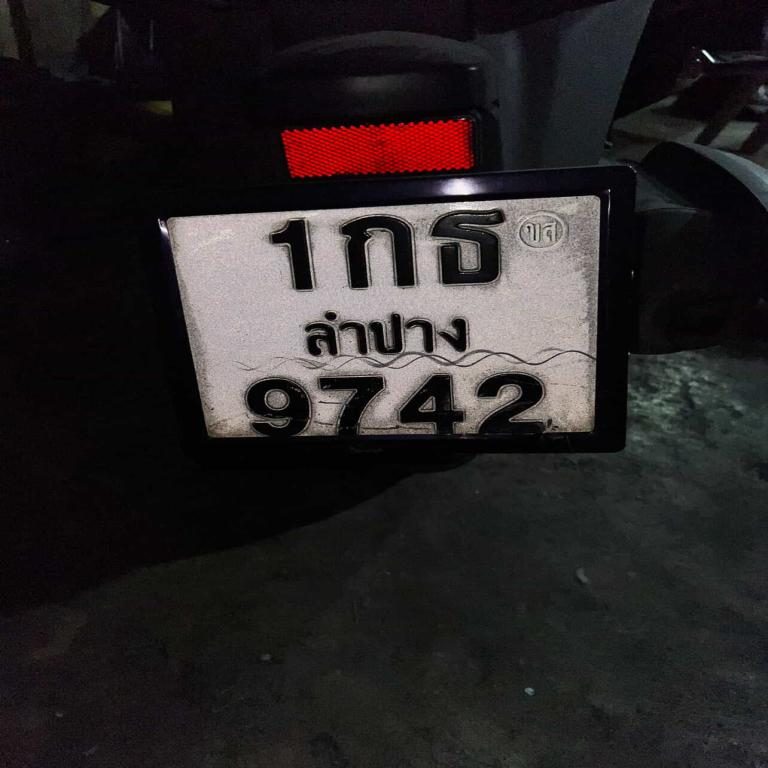license plate: (148, 174, 624, 452)
